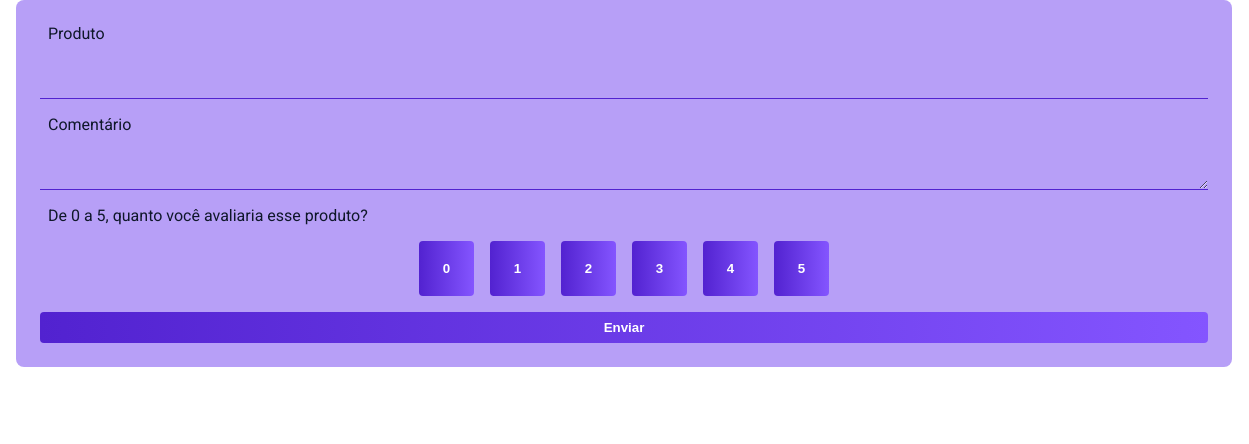
Form › shows validation errors when submitting empty
Click the button with test id "submit" at (624, 328), box [40,312,1208,343]
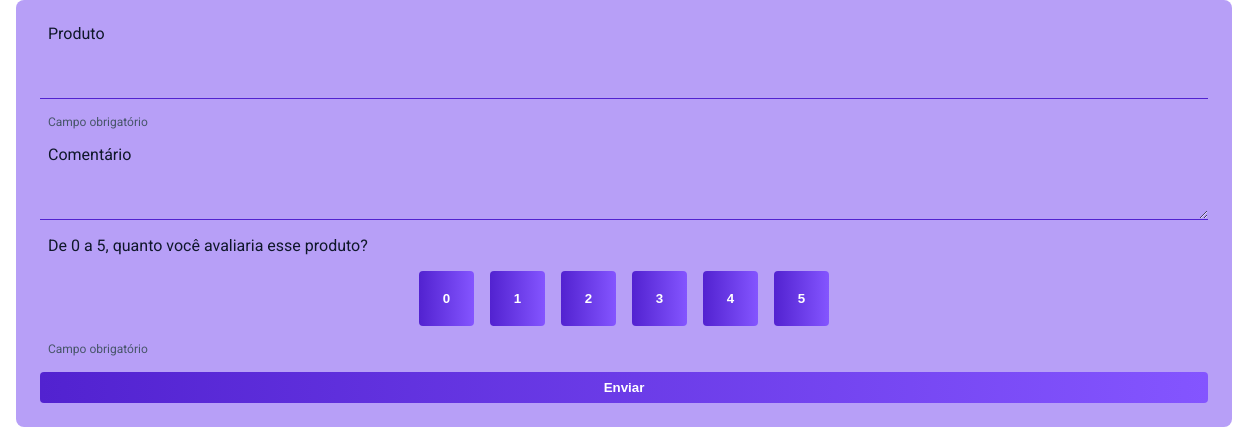
Expected: the 1st text "Campo obrigatório" is shown, [48,115,148,129]
